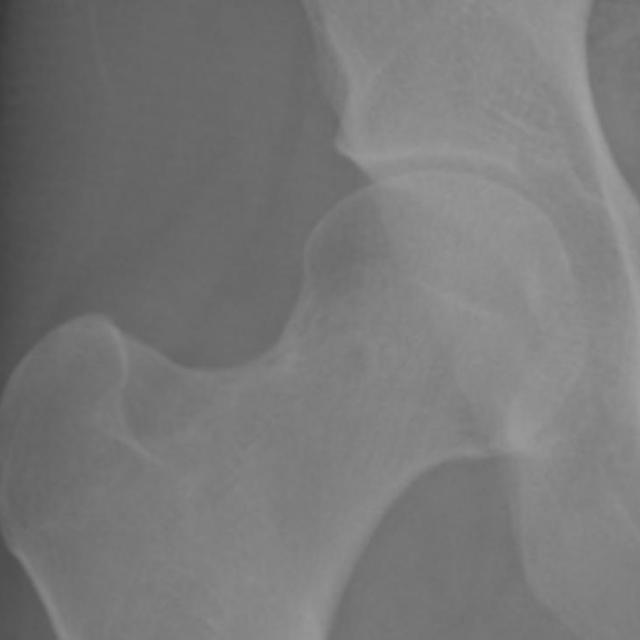Fitted_femural_head: (288, 179, 432, 288)
